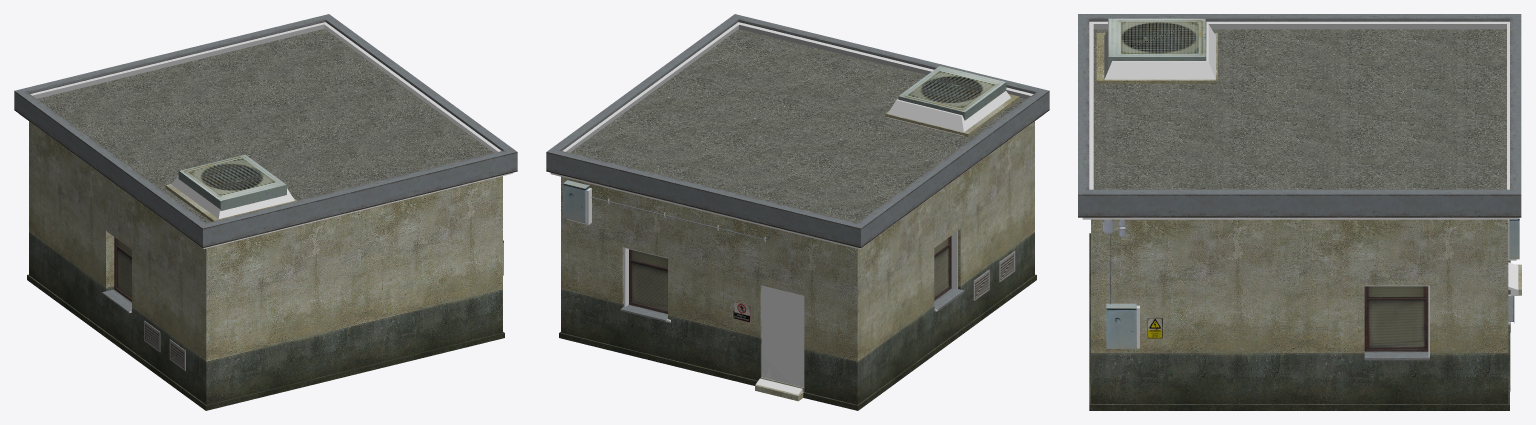
File: support_building_d.fbx
3 views of the same model, side by side, from view 1: azimuth 30°, elevation 25°; view 2: azimuth 150°, elevation 25°; view 3: azimuth 270°, elevation 25° (orthographic). The views are drawn at different scales.
Parts seen in each view (by area): view 1: support_building_d_mesh, px_support_building_d_mesh; view 2: support_building_d_mesh, px_support_building_d_mesh; view 3: support_building_d_mesh, px_support_building_d_mesh.
Part boxes in pixels (bbox=[...]): support_building_d_mesh: bbox=[14, 14, 517, 410]; px_support_building_d_mesh: bbox=[19, 22, 512, 313]; support_building_d_mesh: bbox=[546, 14, 1049, 410]; px_support_building_d_mesh: bbox=[550, 22, 1044, 394]; support_building_d_mesh: bbox=[1078, 14, 1521, 410]; px_support_building_d_mesh: bbox=[1082, 21, 1518, 356].
Bounding box in the file's own units: 7.31 × 4.41 × 7.59.
Materials: 9 (9 with a texture image).
